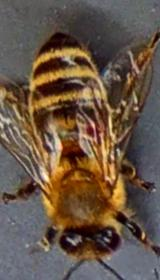varroa_mite: (86, 108, 109, 146)
